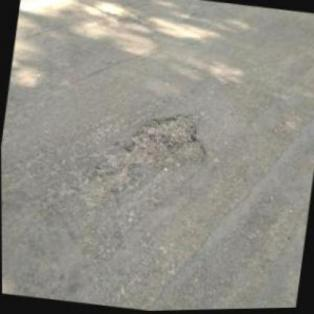Hueco: (120, 107, 212, 181), (66, 160, 138, 214), (106, 14, 139, 30)
